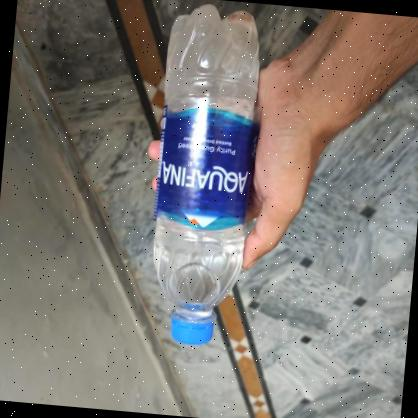bottle: (137, 3, 267, 356)
cap: (168, 309, 213, 349)
label: (153, 105, 254, 226)
